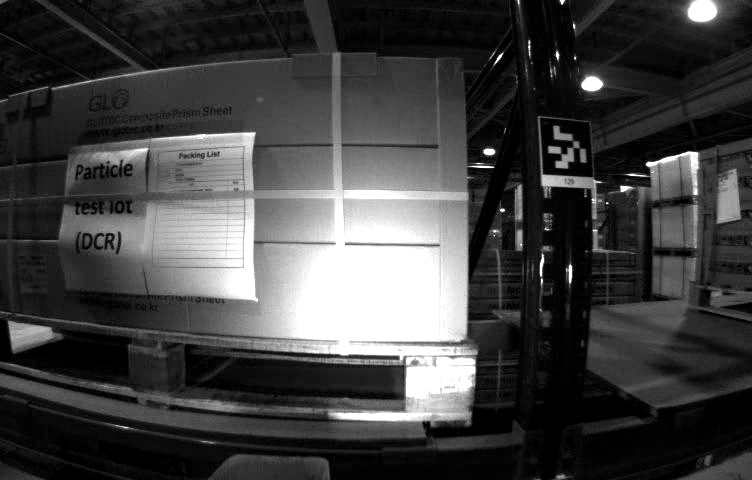True Barcode: (17, 254, 49, 294)
